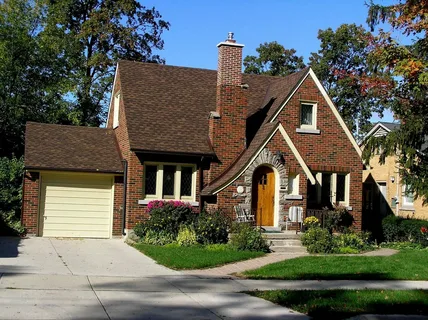private_hause: (70, 58, 371, 242)
